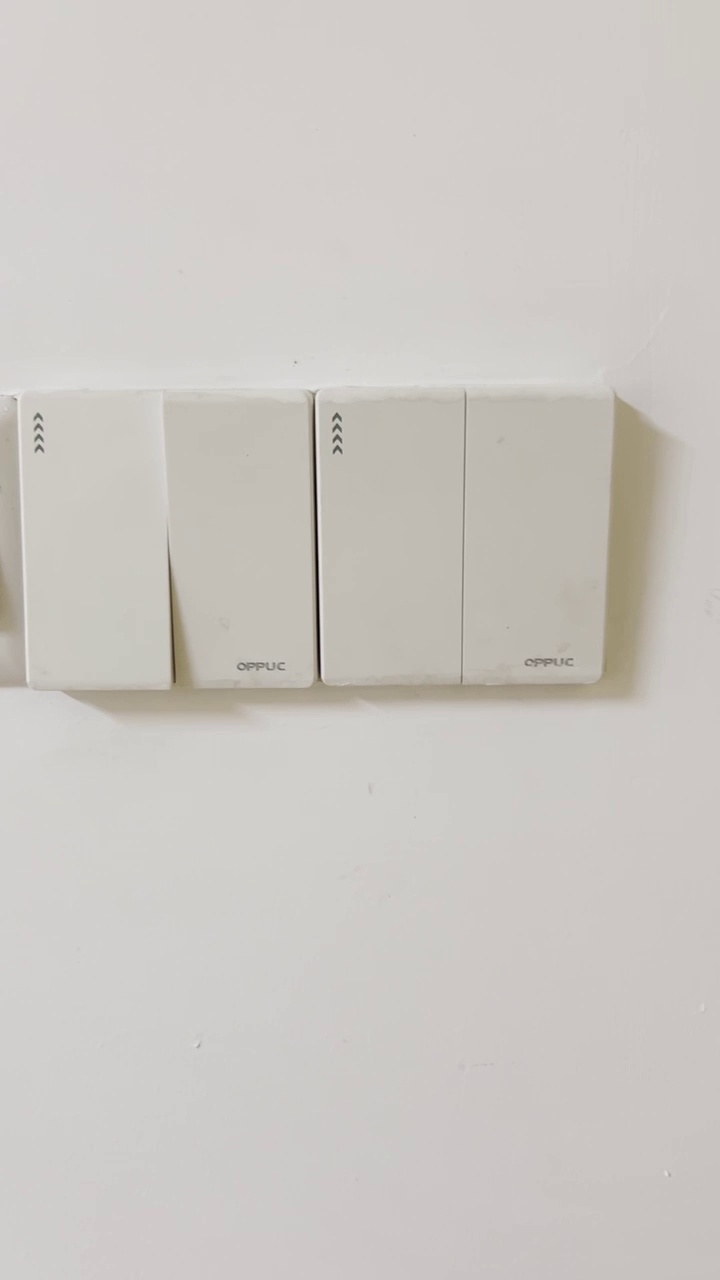button1: (16, 403, 168, 692), (169, 397, 316, 689), (324, 395, 458, 681), (471, 394, 598, 681)
